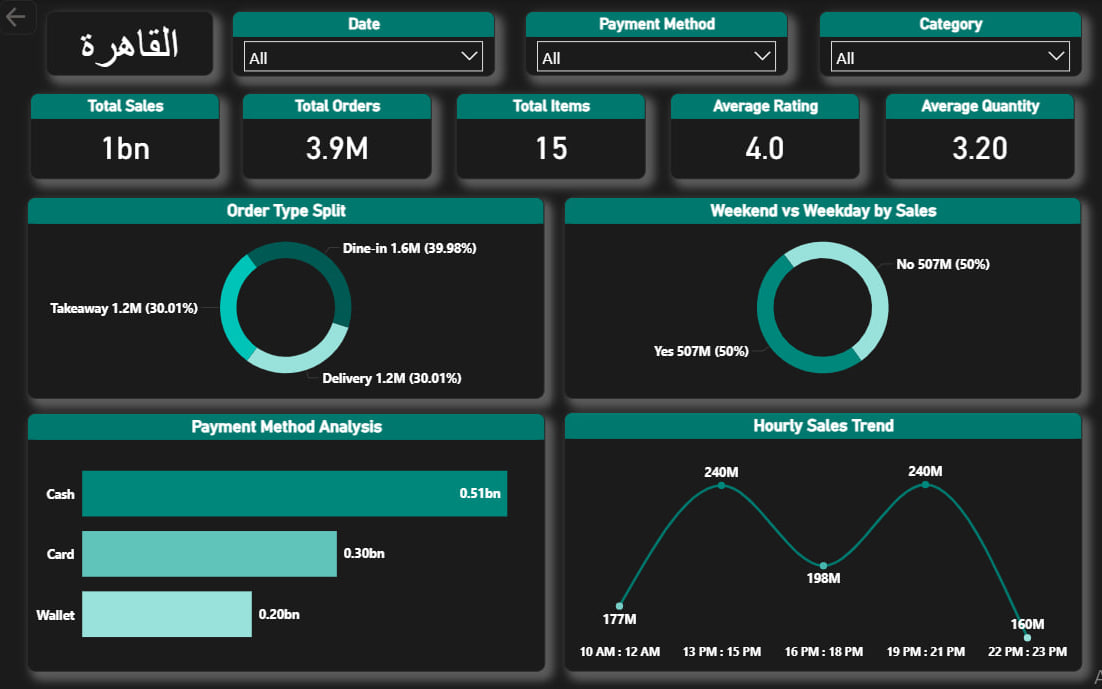

The dashboard page shown, as its layout file describes it:
{"tool":"powerbi","page":{"name":"Branch Performance","canvas":[1280,800],"ordinal":2},"visuals":[{"type":"card","title":"Average Rating","fields":{"Values":["#Measures.Average Rating"]},"box":[778.1,108,219.9,100.3],"z":0},{"type":"lineChart","title":"Hourly Sales Trend","fields":{"Y":["#Measures.Total Sales"],"Category":["all_restaurants.hour (bins)"]},"box":[654.7,477.2,600.6,301],"z":1000},{"type":"card","title":"Total Orders","fields":{"Values":["#Measures.Total Orders"]},"box":[281.7,108,219.9,100.3],"z":2000},{"type":"clusteredBarChart","title":"Payment Method Analysis","fields":{"Category":["all_restaurants.payment_method"],"Y":["#Measures.Total Sales"]},"box":[32.2,478.5,600.6,299.7],"z":3000},{"type":"donutChart","title":"Weekend vs Weekday by Sales","fields":{"Category":["all_restaurants.IS_WeekEndd"],"Y":["#Measures.Total Sales"]},"box":[654.7,228.9,600,234.1],"z":4000},{"type":"card","title":"Total Sales","fields":{"Values":["#Measures.Total Sales"]},"box":[36,108,220,100.3],"z":5000},{"type":"card","title":"Average Quantity","fields":{"Values":["#Measures.Average Qty"]},"box":[1027.7,108,219.9,100.3],"z":6000},{"type":"slicer","title":"Category","fields":{"Values":["all_restaurants.category"]},"box":[950.5,12.9,304.8,75.9],"z":7000},{"type":"slicer","title":"Payment Method","fields":{"Values":["all_restaurants.payment_method"]},"box":[609.6,12.9,304.8,74.6],"z":8000},{"type":"slicer","title":"Date","fields":{"Values":["restaurant_dates.date_column.Variation.Date Hierarchy.Year"]},"box":[270.1,12.9,304.8,75.9],"z":9000},{"type":"donutChart","title":"Order Type Split","fields":{"Category":["all_restaurants.order_type"],"Y":["#Measures.Total Orders"]},"box":[32.2,228.9,600,234.1],"z":10000},{"type":"card","fields":{"Values":["Min(all_restaurants.branch)"]},"box":[54.6,12.7,194.3,74.9],"z":11000},{"type":"actionButton","box":[0,0,43.7,39.9],"z":12000},{"type":"card","title":"Total Items","fields":{"Values":["Count(all_restaurants.item_name)"]},"box":[529.9,108,219.9,100.3],"z":13000}]}

Visuals, with their boxes in screenshot pixels (x1, y1, x2, y2), scaled from the page's 1280x800 canvas onto the 1102x689 screenshot:
"Average Rating" card: bbox(670, 93, 859, 179)
"Hourly Sales Trend" lineChart: bbox(564, 411, 1081, 670)
"Total Orders" card: bbox(243, 93, 432, 179)
"Payment Method Analysis" clusteredBarChart: bbox(28, 412, 545, 670)
"Weekend vs Weekday by Sales" donutChart: bbox(564, 197, 1080, 399)
"Total Sales" card: bbox(31, 93, 220, 179)
"Average Quantity" card: bbox(885, 93, 1074, 179)
"Category" slicer: bbox(818, 11, 1081, 76)
"Payment Method" slicer: bbox(525, 11, 787, 75)
"Date" slicer: bbox(233, 11, 495, 76)
"Order Type Split" donutChart: bbox(28, 197, 544, 399)
card - Min(all_restaurants.branch): bbox(47, 11, 214, 75)
actionButton: bbox(0, 0, 38, 34)
"Total Items" card: bbox(456, 93, 646, 179)
